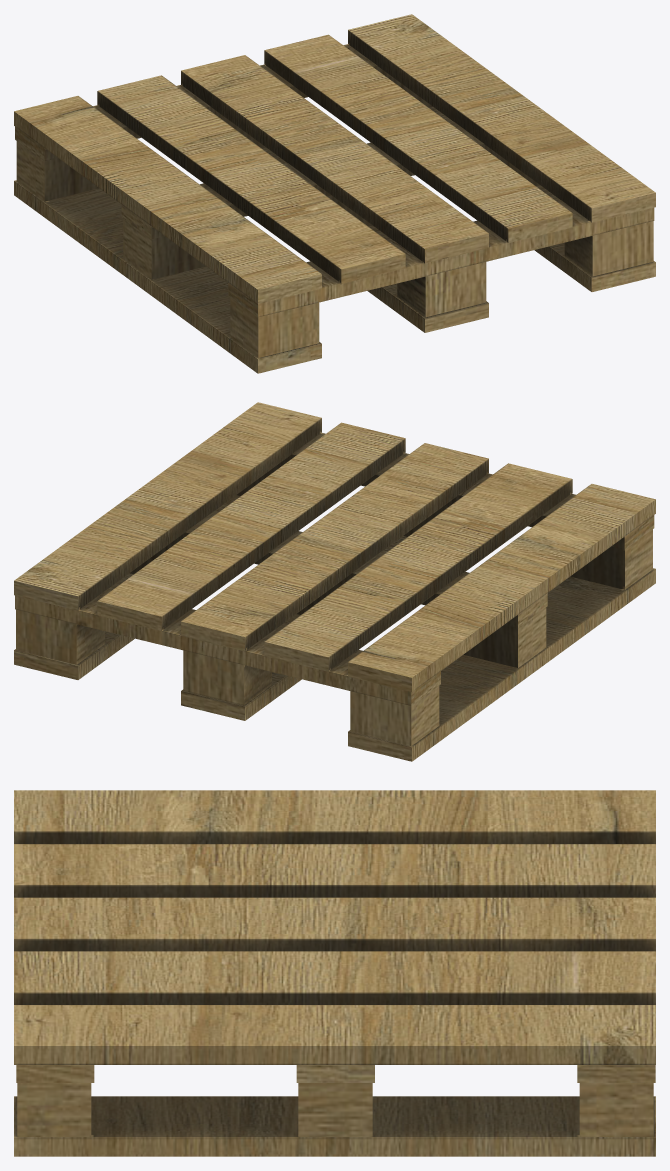
Rendered from подставка.fbx.
The picture shows the model from 3 angles, top to bottom: view 1: azimuth 30°, elevation 25°; view 2: azimuth 150°, elevation 25°; view 3: azimuth 270°, elevation 25°; orthographic projection. The views are drawn at different scales.
Parts seen in each view (by area): view 1: Куб; view 2: Куб; view 3: Куб.
Boxes of the visible parts, x1,y1,x2,y2 form: Куб: [14, 14, 655, 373]; Куб: [14, 402, 655, 761]; Куб: [14, 790, 655, 1156].
Bounding box in the file's own units: 507 × 102 × 538.
